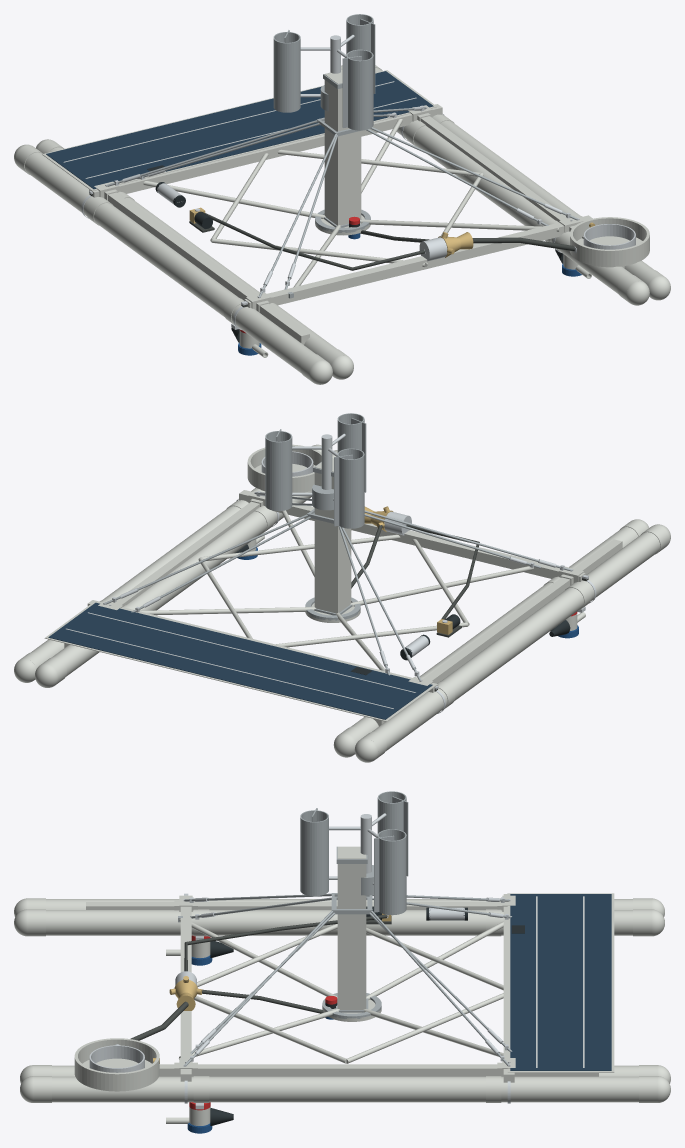
The model's file is cleanroom.glb.
3 renders of one model, top to bottom at view 1: azimuth 30°, elevation 25°; view 2: azimuth 150°, elevation 25°; view 3: azimuth 270°, elevation 25°, orthographic. The views are drawn at different scales.
Visible parts, largest first — view 1: cr-solar-panel, cr-pontoon-port-outer, cr-rotor-lenz-masthead, cr-deck-cross-members, cr-pontoon-starboard-inner, cr-mast-tube, cr-frame-rail-cross-aft, cr-vessel-squat-cylinder, cr-frame-rail-long-port, cr-frame-rail-cross-forward, cr-eductor-nozzle, cr-pontoon-starboard-outer (+6 smaller); view 2: cr-solar-panel, cr-pontoon-port-outer, cr-rotor-lenz-masthead, cr-deck-cross-members, cr-pontoon-starboard-inner, cr-mast-tube, cr-frame-rail-long-port, cr-frame-rail-cross-aft, cr-pontoon-starboard-outer, cr-pontoon-port-inner, cr-mast-stays-outer, cr-mast-stays-inner (+6 smaller); view 3: cr-solar-panel, cr-pontoon-starboard-outer, cr-pontoon-port-inner, cr-rotor-lenz-masthead, cr-deck-cross-members, cr-mast-tube, cr-frame-rail-long-starboard, cr-vessel-squat-cylinder, cr-eductor-nozzle, cr-mast-stays-outer, cr-frame-rail-long-port, cr-pontoon-port-outer (+7 smaller).
Part boxes in pixels (x1=…): cr-solar-panel: x1=42, y1=70, x2=436, y2=191; cr-pontoon-port-outer: x1=14, y1=144, x2=332, y2=384; cr-rotor-lenz-masthead: x1=273, y1=14, x2=375, y2=130; cr-deck-cross-members: x1=143, y1=119, x2=559, y2=298; cr-pontoon-starboard-inner: x1=341, y1=65, x2=649, y2=305; cr-mast-tube: x1=323, y1=69, x2=361, y2=227; cr-frame-rail-cross-aft: x1=244, y1=215, x2=592, y2=307; cr-vessel-squat-cylinder: x1=570, y1=217, x2=649, y2=267; cr-frame-rail-long-port: x1=108, y1=192, x2=309, y2=344; cr-frame-rail-cross-forward: x1=89, y1=104, x2=442, y2=197; cr-eductor-nozzle: x1=205, y1=213, x2=574, y2=270; cr-pontoon-starboard-outer: x1=375, y1=65, x2=670, y2=300; cr-solar-panel: x1=44, y1=601, x2=436, y2=721; cr-pontoon-port-outer: x1=354, y1=524, x2=670, y2=762; cr-rotor-lenz-masthead: x1=265, y1=413, x2=366, y2=528; cr-deck-cross-members: x1=140, y1=510, x2=533, y2=670; cr-pontoon-starboard-inner: x1=35, y1=450, x2=337, y2=687; cr-mast-tube: x1=313, y1=458, x2=352, y2=615; cr-frame-rail-long-port: x1=373, y1=539, x2=622, y2=726; cr-frame-rail-cross-aft: x1=239, y1=490, x2=585, y2=581; cr-pontoon-starboard-outer: x1=14, y1=444, x2=321, y2=682; cr-pontoon-port-inner: x1=333, y1=519, x2=649, y2=757; cr-mast-stays-outer: x1=103, y1=491, x2=573, y2=681; cr-mast-stays-inner: x1=131, y1=503, x2=540, y2=675; cr-solar-panel: x1=507, y1=893, x2=614, y2=1072; cr-pontoon-starboard-outer: x1=20, y1=1076, x2=670, y2=1102; cr-pontoon-port-inner: x1=14, y1=909, x2=664, y2=936; cr-rotor-lenz-masthead: x1=300, y1=791, x2=408, y2=915; cr-deck-cross-members: x1=178, y1=916, x2=503, y2=1063; cr-mast-tube: x1=336, y1=846, x2=368, y2=1012; cr-frame-rail-long-starboard: x1=83, y1=1064, x2=598, y2=1076; cr-vessel-squat-cylinder: x1=74, y1=1038, x2=159, y2=1091; cr-eductor-nozzle: x1=130, y1=914, x2=386, y2=1040; cr-mast-stays-outer: x1=183, y1=893, x2=510, y2=1066; cr-frame-rail-long-port: x1=86, y1=902, x2=497, y2=909; cr-pontoon-port-outer: x1=14, y1=898, x2=664, y2=916.
Size of the model in its own units: 2.26 by 1.24 by 3.2.
